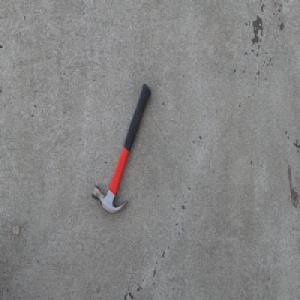Hammer: (91, 82, 152, 215)
